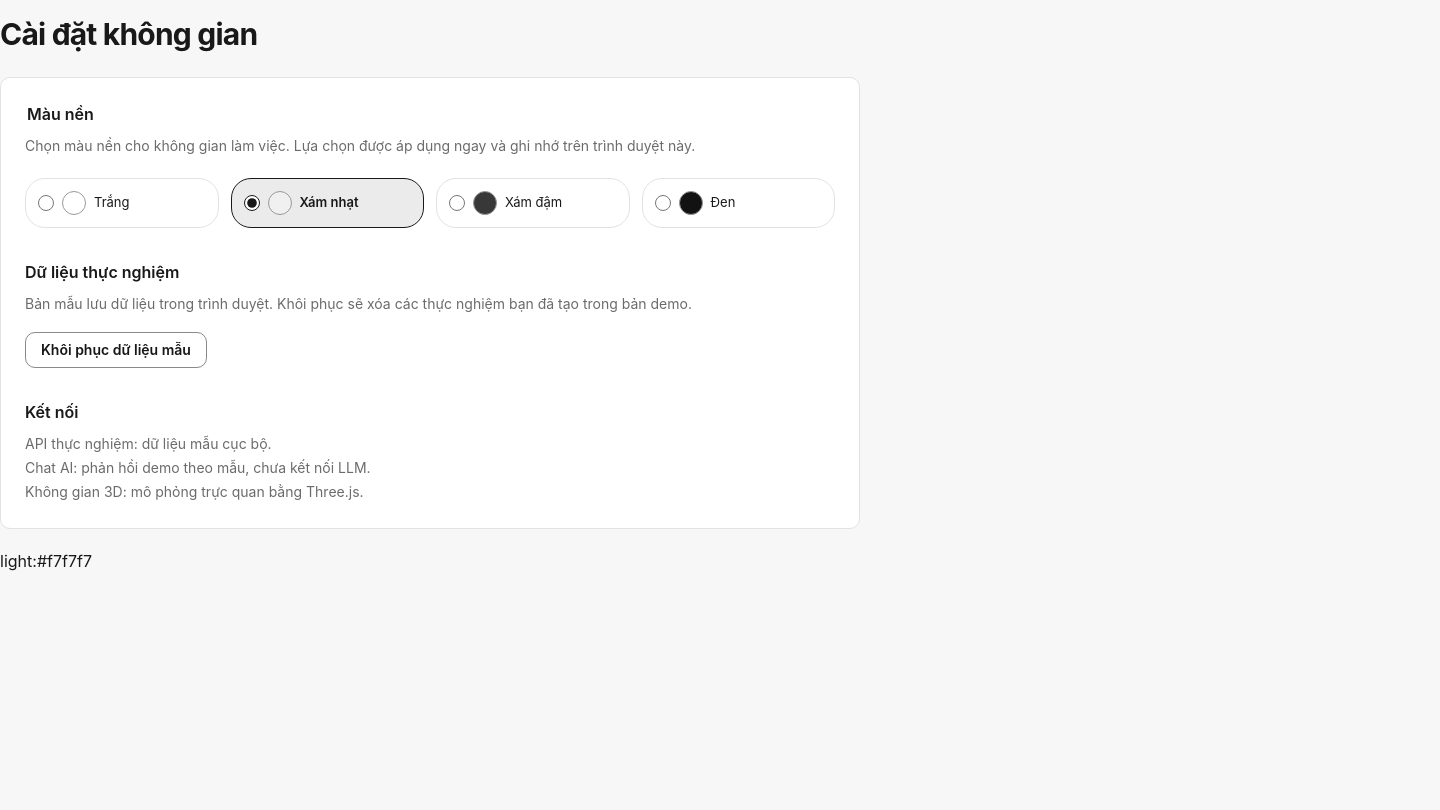
Test: Cài đặt màu nền › bấm từng màu cập nhật MUI, CSS variables, trạng thái radio và localStorage
Click the radio button labelled "Đen": [662, 203] box [654,195,670,211]
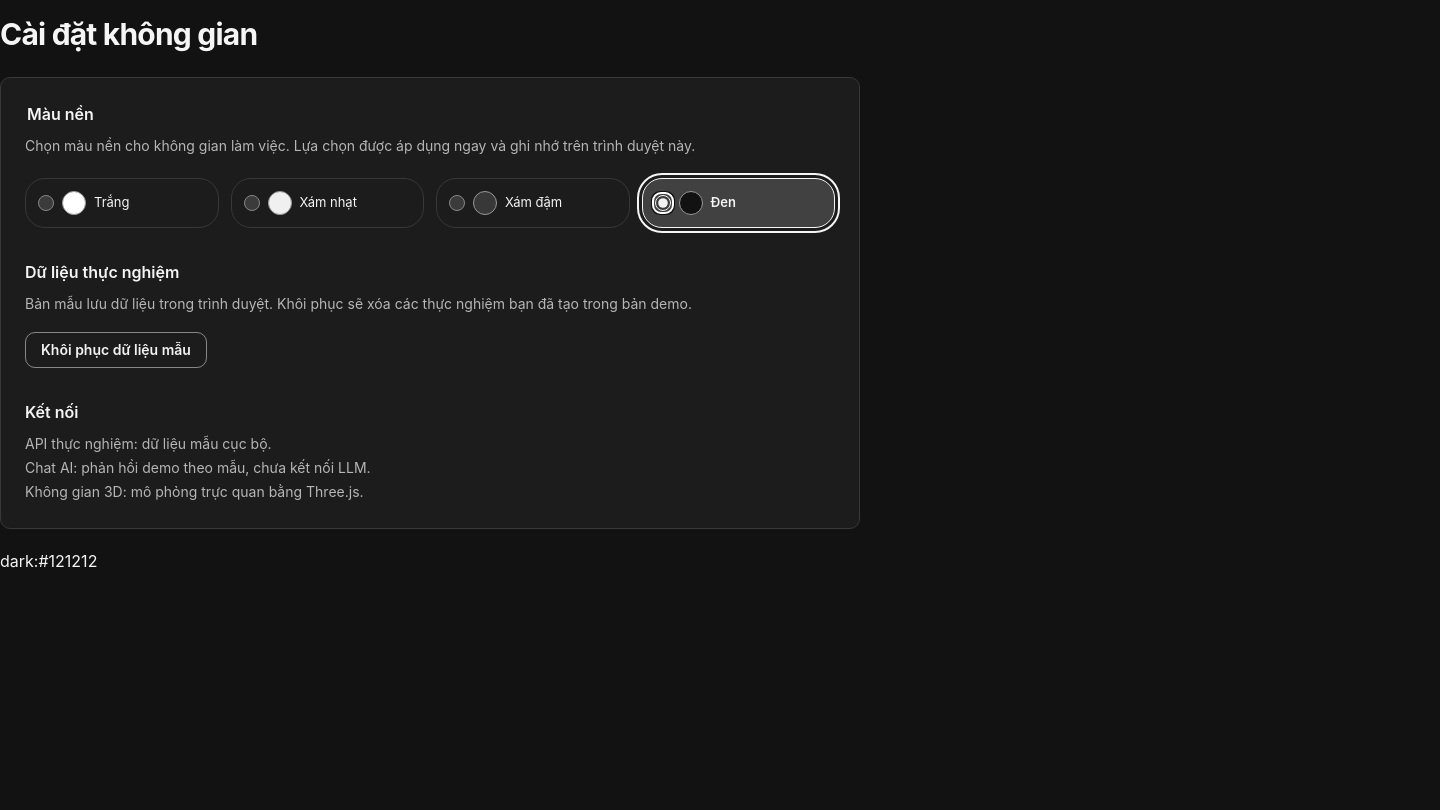
Check: the radio button labelled "Đen" is checked, box [654,195,670,211]
Check: the text named "Giao diện hiện tại" reads "dark:#121212", box [0,550,97,570]
Click the radio button labelled "Trắng": [46, 203] box [38,195,54,211]
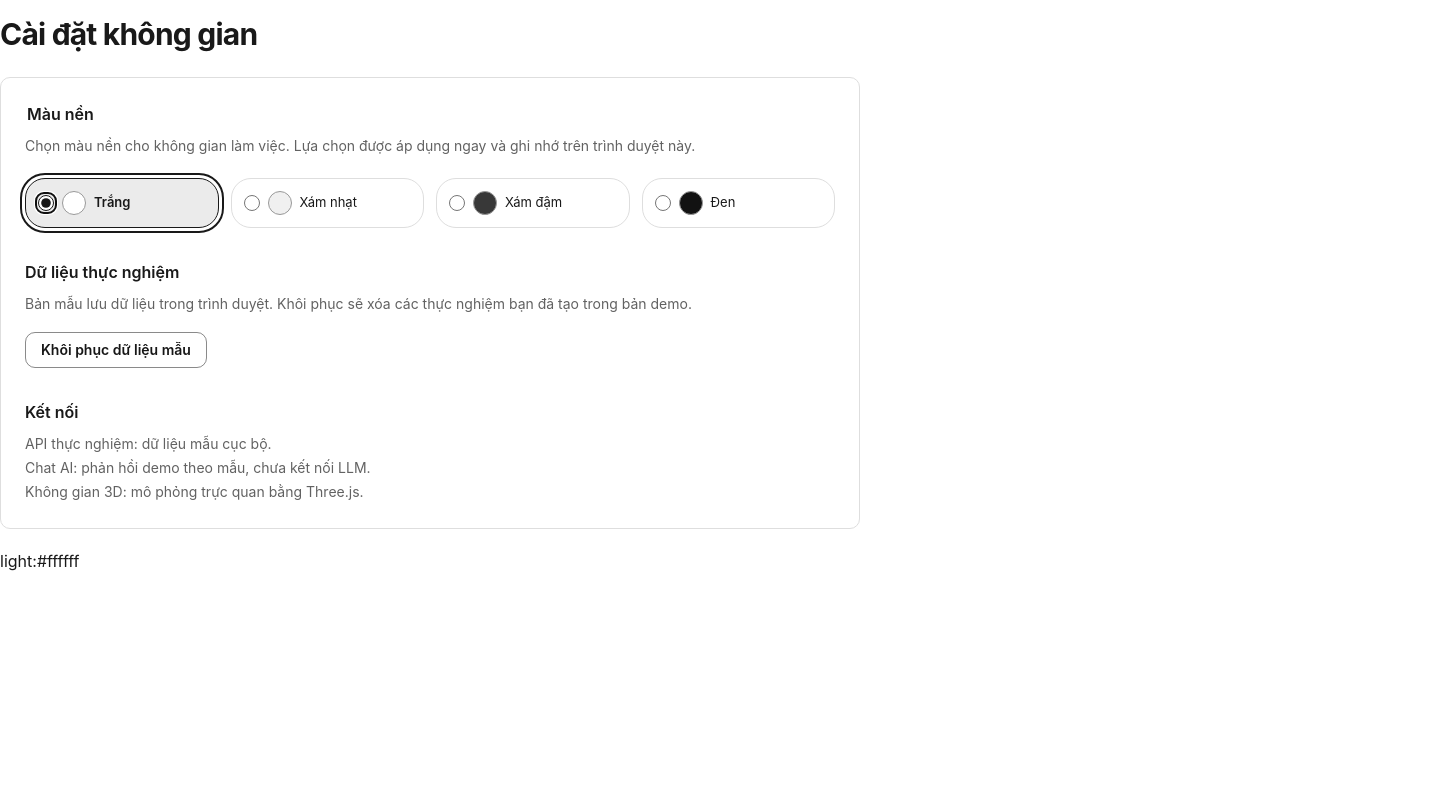
Check: the radio button labelled "Trắng" is checked, box [38,195,54,211]
Click the radio button labelled "Xám đậm": [457, 203] box [449,195,465,211]
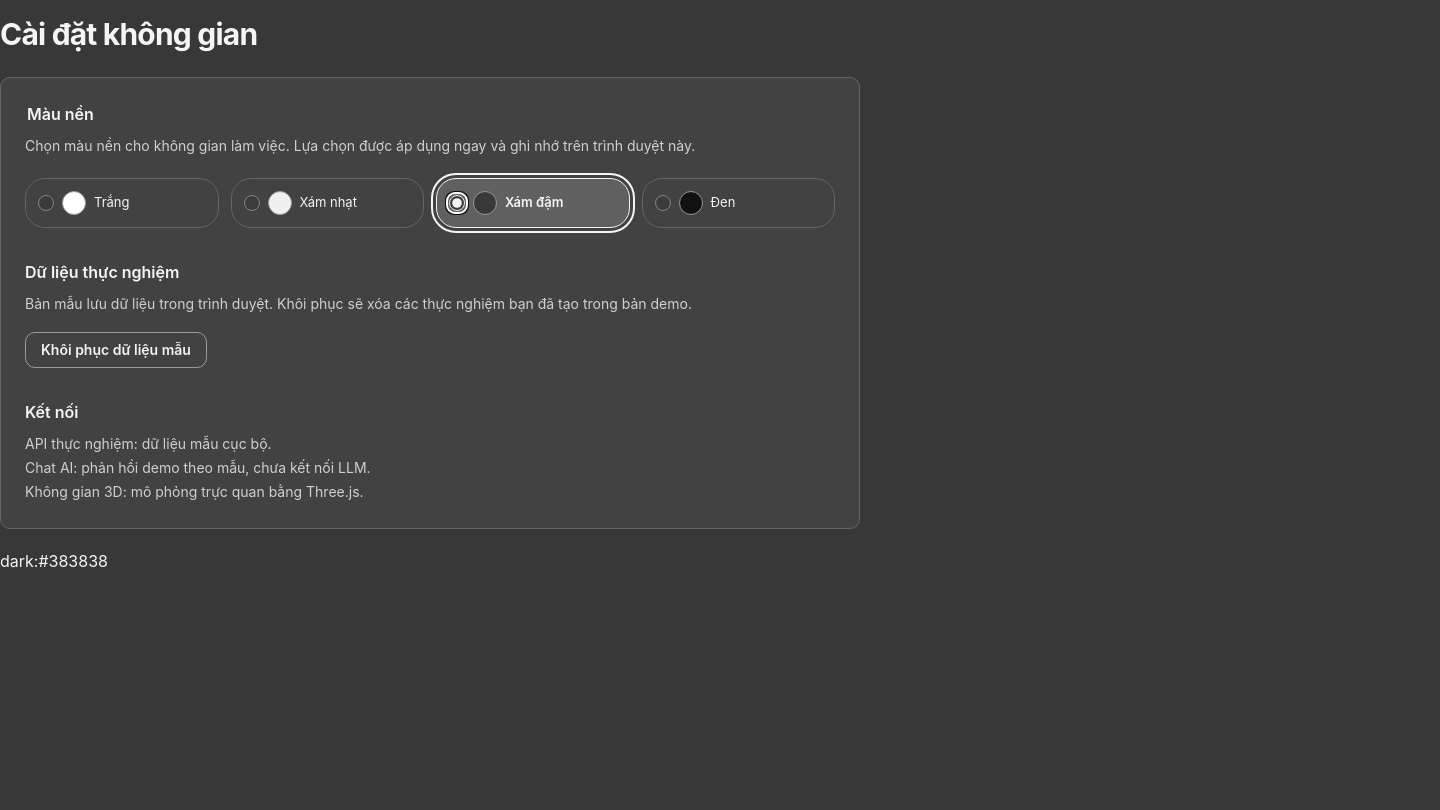
Check: the radio button labelled "Xám đậm" is checked, box [449,195,465,211]
Click the radio button labelled "Xám nhạt": [252, 203] box [244,195,260,211]
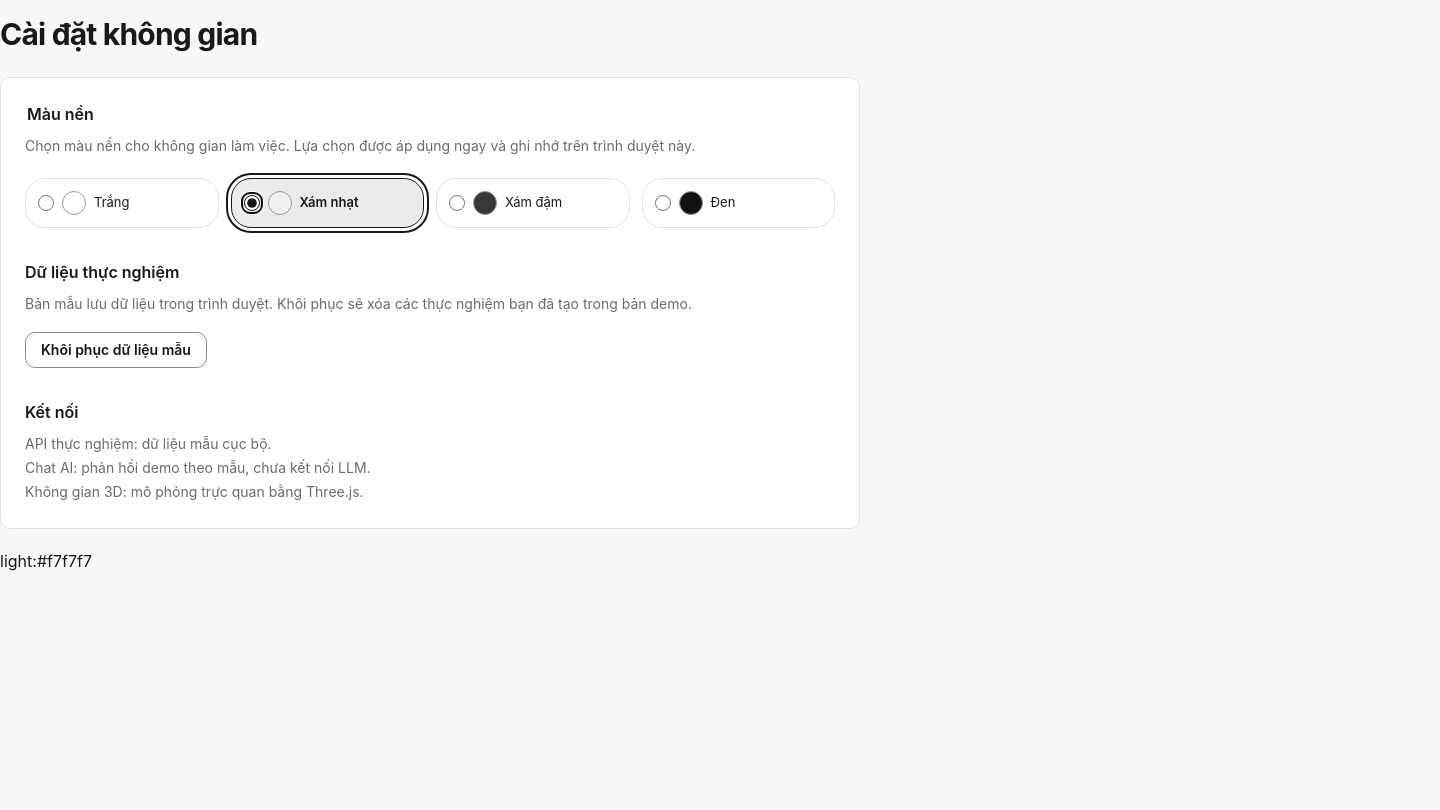
Check: the radio button labelled "Xám nhạt" is checked, box [244,195,260,211]
Check: the text named "Giao diện hiện tại" reads "light:#f7f7f7", box [0,550,92,570]
